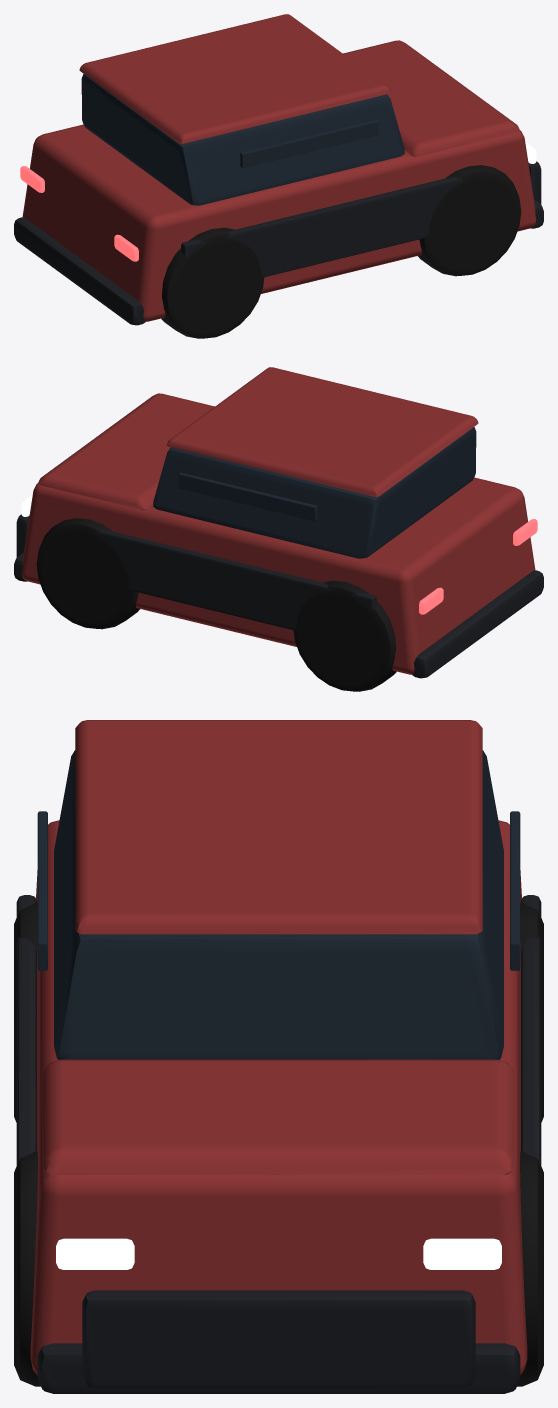
The model's file is armored.glb.
The picture shows the model from 3 angles, top to bottom: view 1: azimuth 30°, elevation 25°; view 2: azimuth 150°, elevation 25°; view 3: azimuth 270°, elevation 25°; orthographic projection. The views are drawn at different scales.
Visible parts, largest first — view 1: part-paint, part-glass, part-trim, wheel--11--1-tyre, wheel-+11--1-tyre, part-taillight; view 2: part-paint, part-glass, part-trim, wheel--11-1-tyre, wheel-+11-1-tyre, part-taillight; view 3: part-paint, part-glass, part-trim, wheel-+11-1-tyre, wheel-+11--1-tyre, headlight-1, headlight--1, wheel--11-1-tyre, wheel--11--1-tyre.
Part boxes in pixels (x1,y1,x2,y2): part-paint: (22,14,536,321); part-glass: (81,74,404,205); part-trim: (14,161,543,325); wheel--11--1-tyre: (161,227,264,338); wheel-+11--1-tyre: (418,165,521,276); part-taillight: (20,166,138,261); part-paint: (21,367,535,674); part-glass: (153,427,476,558); part-trim: (14,514,543,678); wheel--11-1-tyre: (293,580,396,691); wheel-+11-1-tyre: (36,518,139,629); part-taillight: (419,519,537,614); part-paint: (30,720,527,1374); part-glass: (37,750,520,1059); part-trim: (16,895,541,1393); wheel-+11-1-tyre: (517,1151,543,1386); wheel-+11--1-tyre: (14,1151,40,1386); headlight-1: (423,1238,501,1269); headlight--1: (56,1238,134,1269); wheel--11-1-tyre: (520,903,543,1122); wheel--11--1-tyre: (14,903,37,1122).
Bounding box in the file's own units: 36.9 × 16.5 × 20.2.
